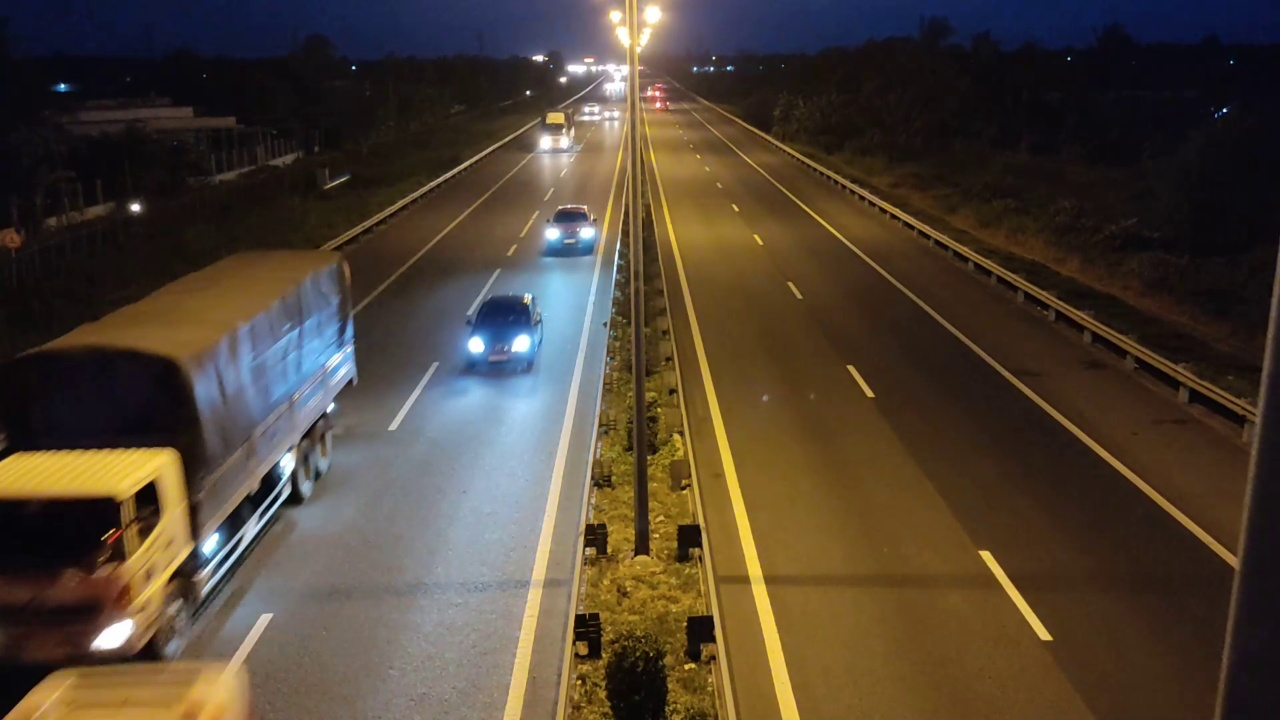car: (462, 293, 545, 373), (541, 203, 599, 257)
truck: (1, 245, 359, 675)
